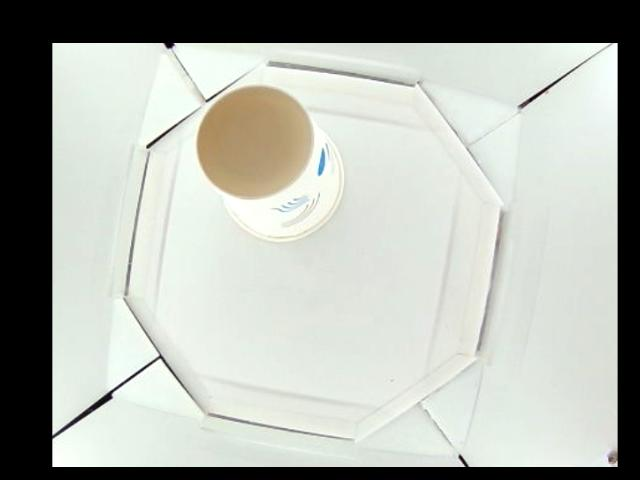Cup: (194, 83, 346, 241)
